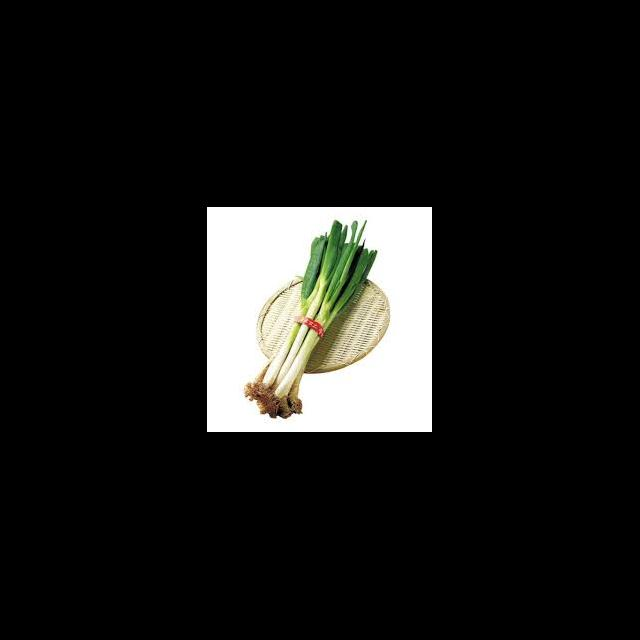green_onion: (246, 222, 378, 419)
